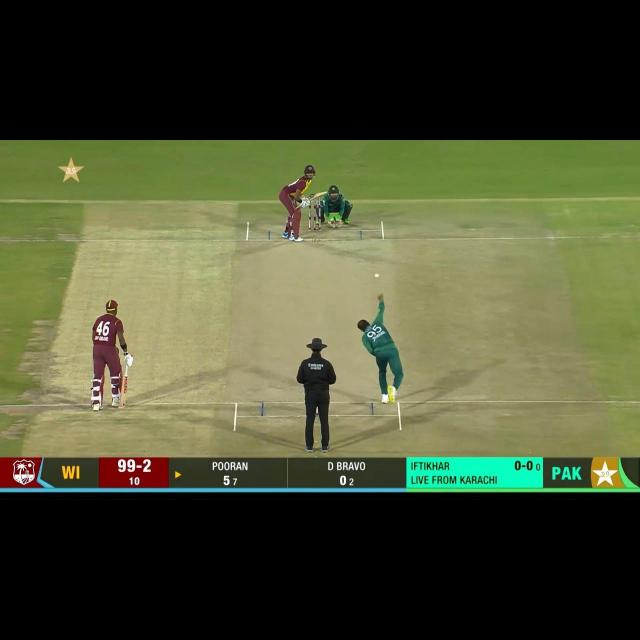bat: (120, 375, 128, 410), (307, 192, 329, 202)
toe: (120, 404, 126, 410), (322, 191, 329, 195)
